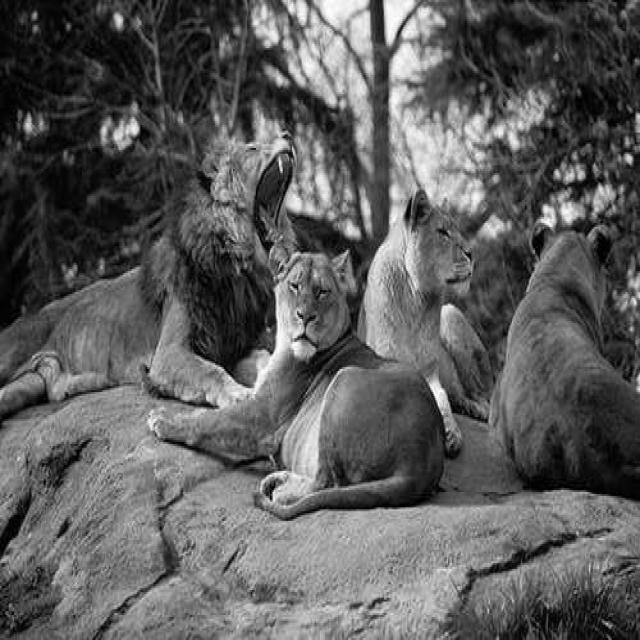Lion: (259, 256, 483, 550), (151, 123, 289, 377), (401, 149, 518, 430)
